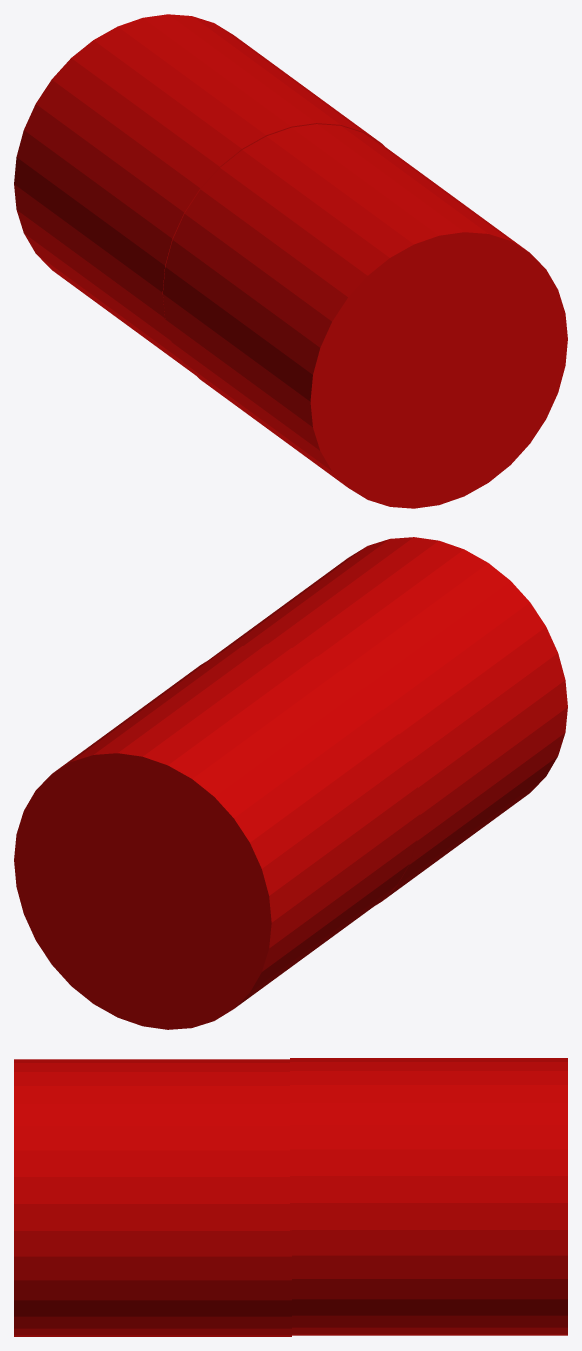
File: red.obj
3 renders of one model, top to bottom at view 1: azimuth 30°, elevation 25°; view 2: azimuth 150°, elevation 25°; view 3: azimuth 270°, elevation 25°, orthographic. The views are drawn at different scales.
Visible parts, largest first — view 1: arch.002; view 2: arch.002; view 3: arch.002.
Boxes of the visible parts, x1,y1,x2,y2 form: arch.002: (14, 14, 567, 508); arch.002: (14, 537, 567, 1029); arch.002: (14, 1058, 567, 1336).
Bounding box in the file's own units: 0.371 × 0.3722 × 0.739.
